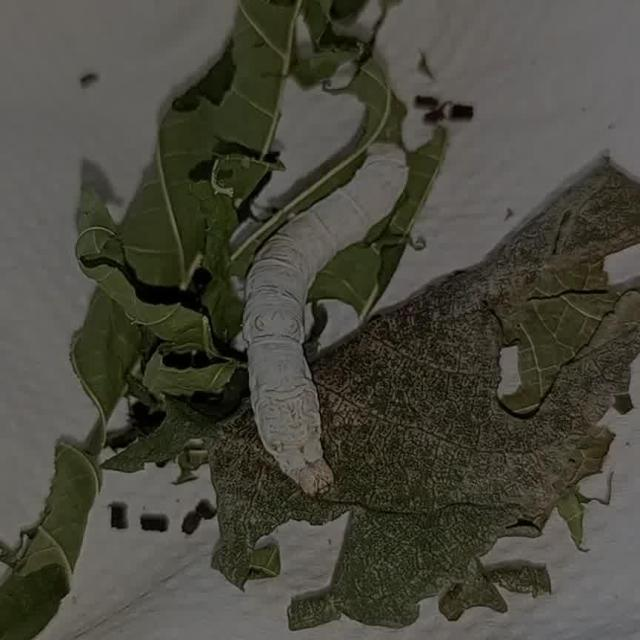Healthy: (232, 132, 409, 498)
